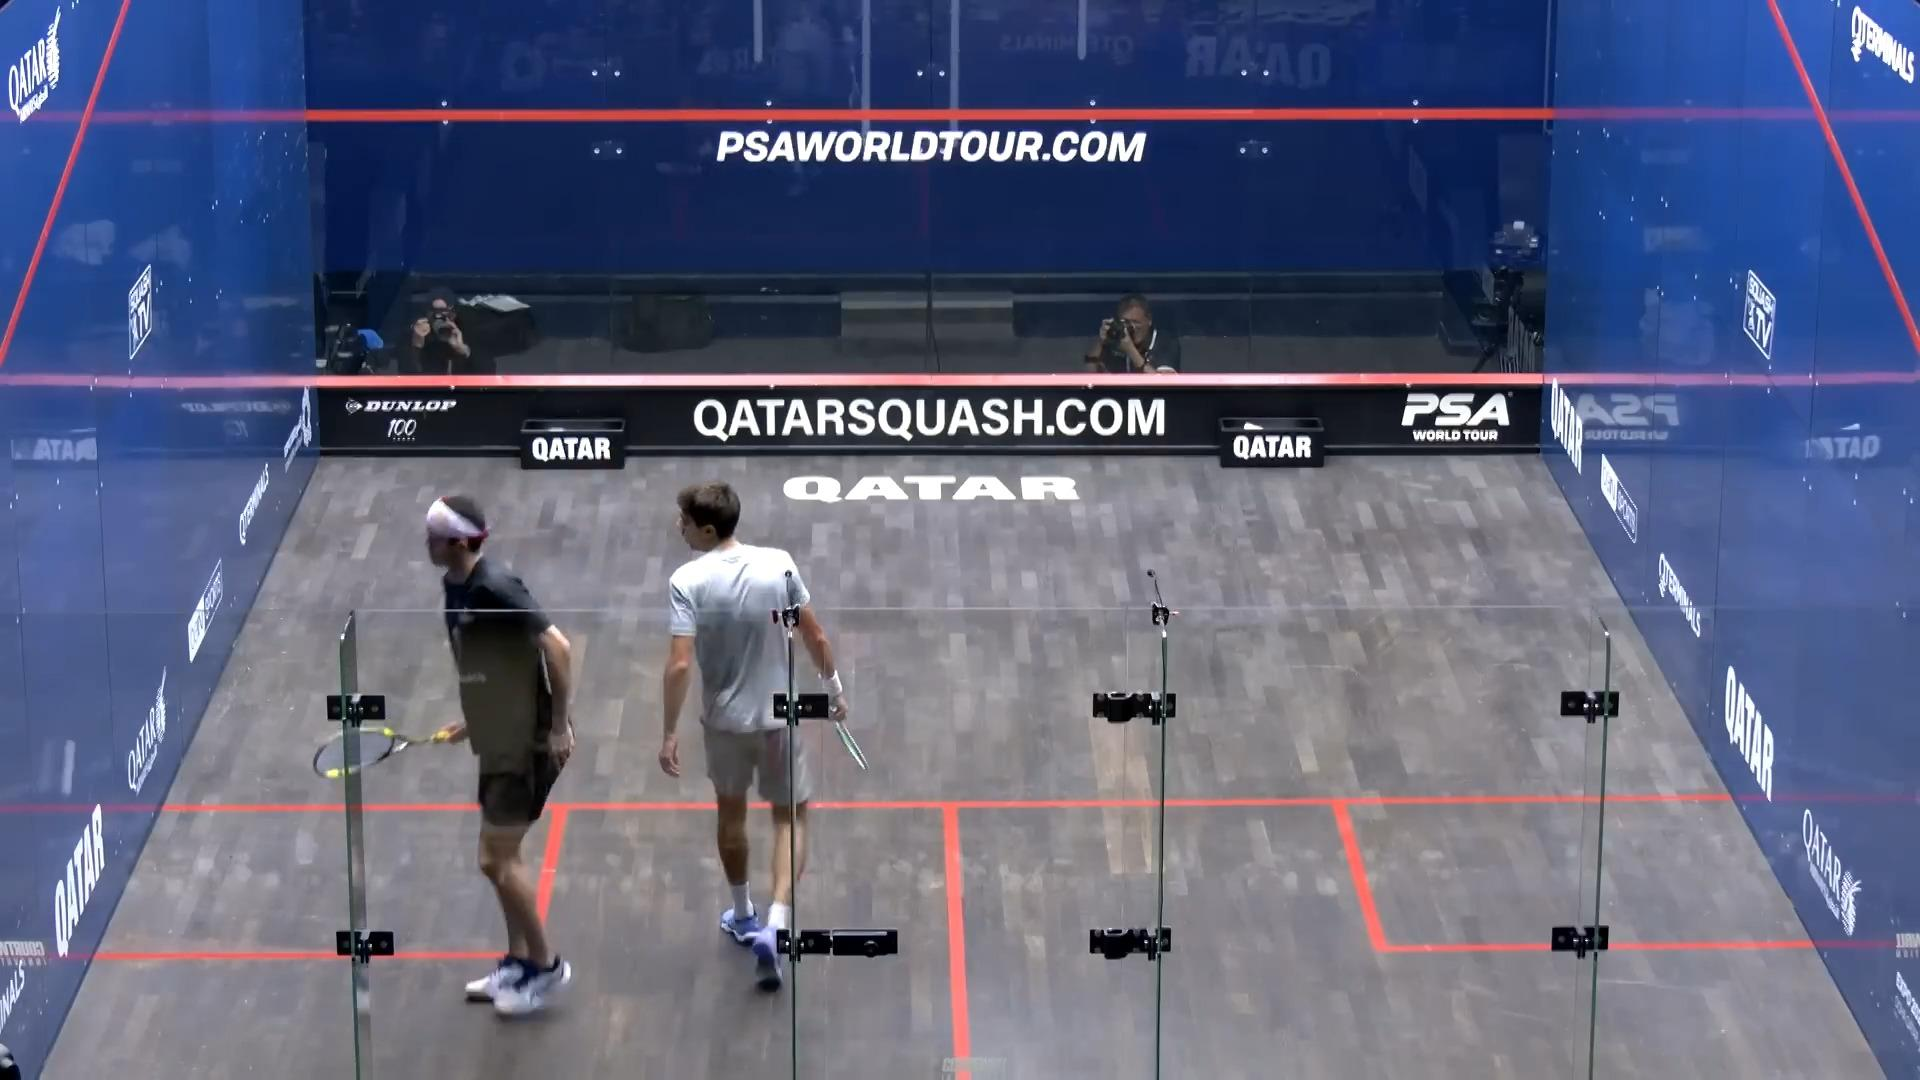Racket: (307, 721, 447, 790)
